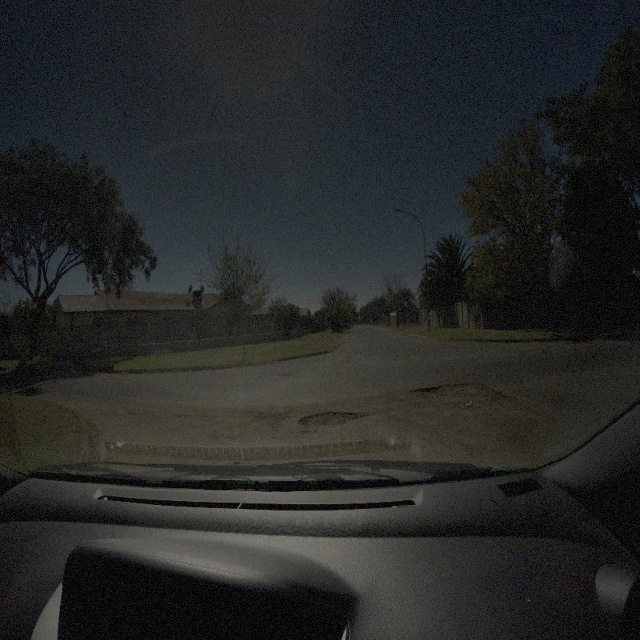pothole: (296, 407, 374, 428), (412, 382, 490, 398)
